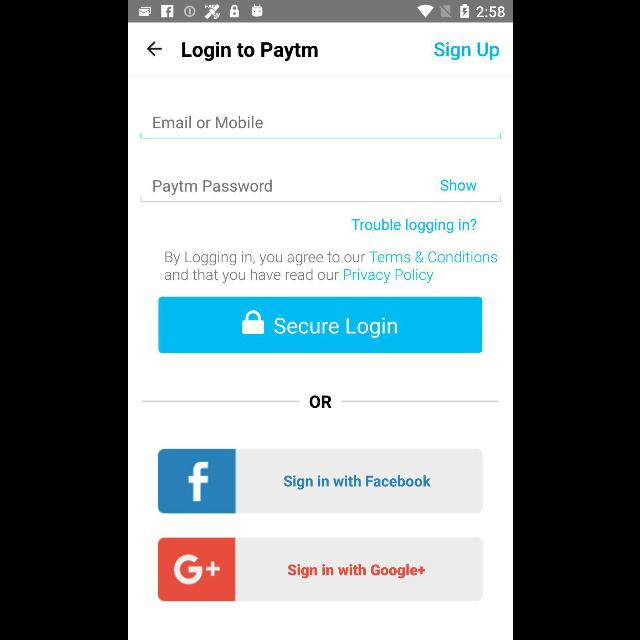icon: (146, 42, 162, 56)
input: (140, 116, 500, 140), (140, 180, 500, 202)
text: (164, 250, 496, 284), (181, 42, 317, 62), (350, 218, 476, 234), (153, 180, 271, 196), (154, 116, 262, 128), (434, 41, 498, 60), (439, 179, 476, 191), (309, 396, 331, 408)
textbutton: (158, 448, 482, 514), (158, 538, 482, 602), (158, 296, 482, 354)
toolbar: (128, 23, 512, 75)
uppertaskbar: (128, 1, 512, 23)
